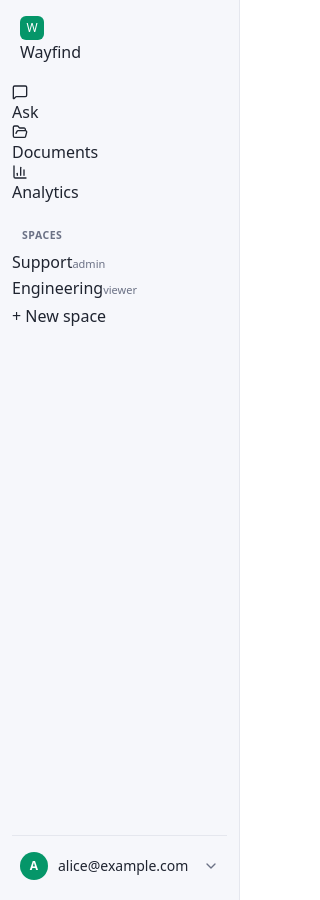
Scenario: theme choice › the account menu offers Light, Dark and System, with System selected by default
Click the button with aria-label "account menu": x=120, y=866 x1=12 y1=844 x2=227 y2=888
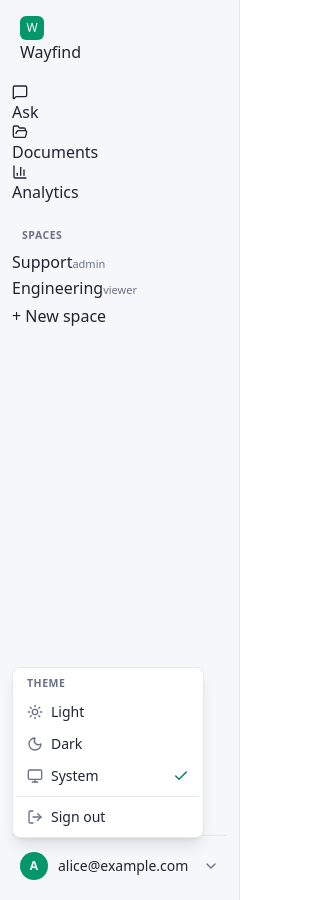
Expected: the menu item "System" is checked, x1=27 y1=766 x2=189 y2=785
Expected: the menu item "Light" is not checked, x1=27 y1=702 x2=84 y2=721
Expected: the menu item "Dark" is not checked, x1=27 y1=734 x2=82 y2=753
